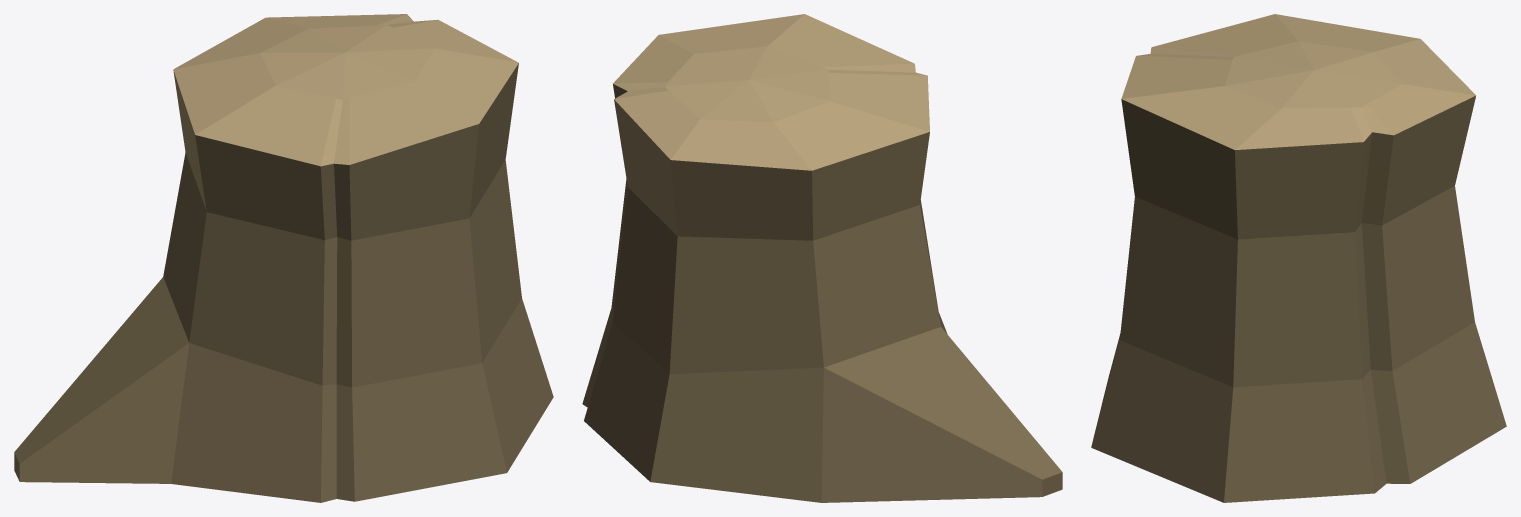
File: Camp_cutTree.fbx
3 views of the same model, side by side, from view 1: azimuth 30°, elevation 25°; view 2: azimuth 150°, elevation 25°; view 3: azimuth 270°, elevation 25° (orthographic). The views are drawn at different scales.
Parts seen in each view (by area): view 1: pasted__pCylinder1; view 2: pasted__pCylinder1; view 3: pasted__pCylinder1.
Boxes of the visible parts, x1,y1,x2,y2 form: pasted__pCylinder1: (14,14,553,502); pasted__pCylinder1: (582,14,1062,502); pasted__pCylinder1: (1091,14,1506,502).
Size of the model in its own units: 2.54 by 1.74 by 1.86.
